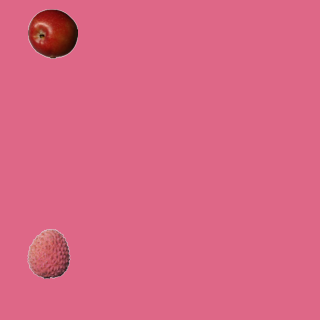Apple Braeburn: (27, 8, 77, 58)
Lychee: (23, 228, 73, 278)
